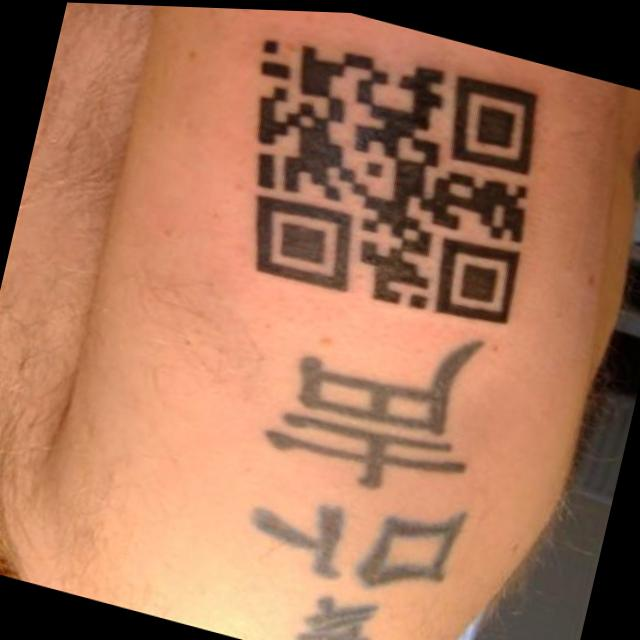qrcode: (212, 19, 559, 334)
